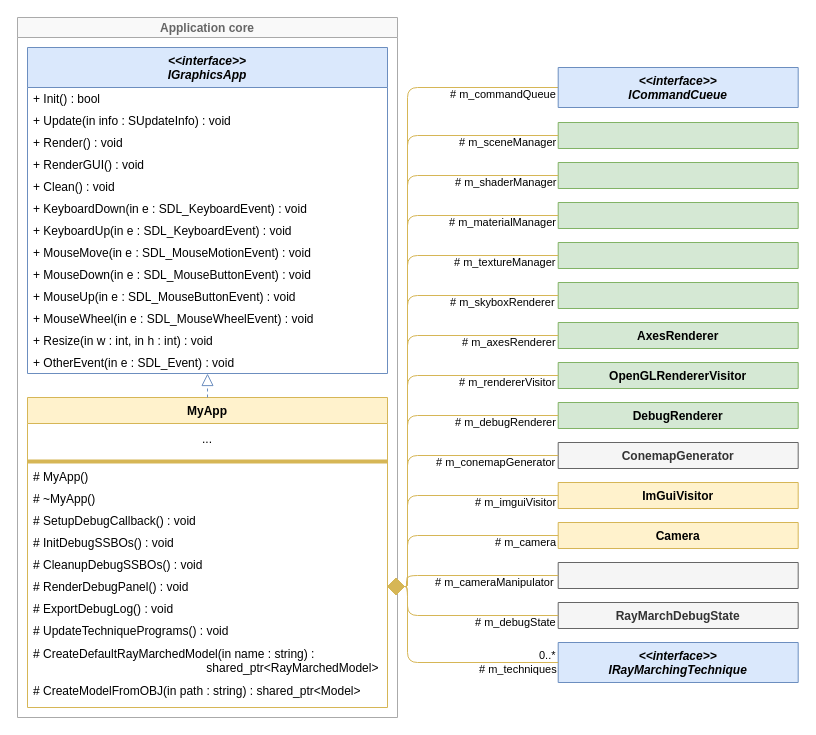
Image size: 816x735. Some labels were removed from this diagram. The box of each missing label's shape, as (x1, y1, x2, y2) in pixels:
CameraManipulator: (557, 562, 798, 588)
MaterialManager: (557, 202, 798, 228)
SceneManager: (557, 122, 798, 148)
ShaderManager: (557, 162, 798, 188)
SkyboxRenderer: (557, 282, 798, 308)
TextureManager: (557, 242, 798, 268)
